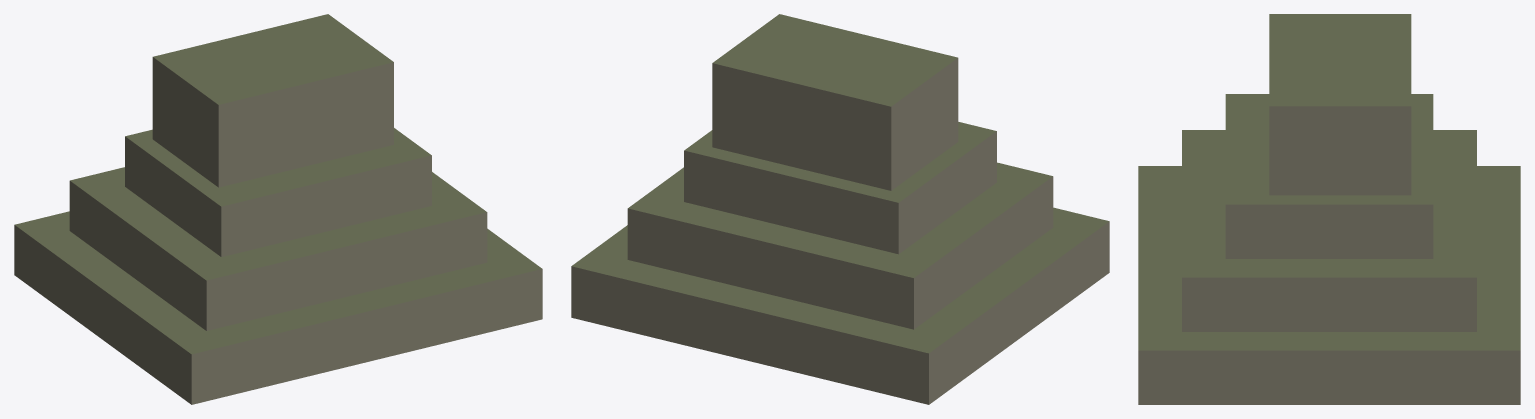
File: ruin-temple-b.far-facades-v2.lod2.glb
The picture shows the model from 3 angles, left to right: view 1: azimuth 30°, elevation 25°; view 2: azimuth 150°, elevation 25°; view 3: azimuth 270°, elevation 25°; orthographic projection. The views are drawn at different scales.
Parts seen in each view (by area): view 1: ruin-temple-b; view 2: ruin-temple-b; view 3: ruin-temple-b.
Part boxes in pixels (bbox=[...]): ruin-temple-b: bbox=[14, 14, 542, 404]; ruin-temple-b: bbox=[571, 14, 1109, 404]; ruin-temple-b: bbox=[1138, 14, 1520, 404].
Size of the model in its own units: 16 by 10.2 by 14.
